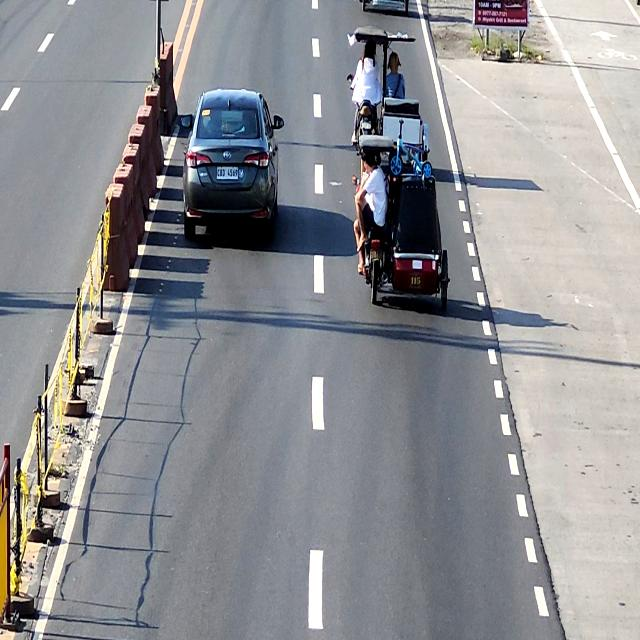Car: (182, 89, 284, 244)
License-Plate: (217, 167, 238, 180), (369, 248, 384, 259), (360, 120, 371, 129)
Tricycle: (354, 133, 451, 315), (349, 26, 429, 171)
